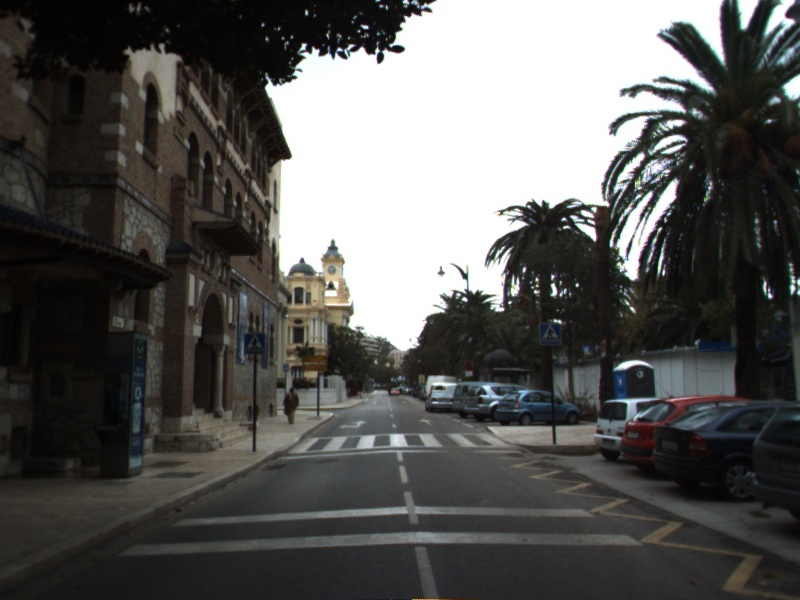STRAIGHT: (417, 416, 435, 427)
STRAIGHT_LEFT: (337, 418, 368, 430)
